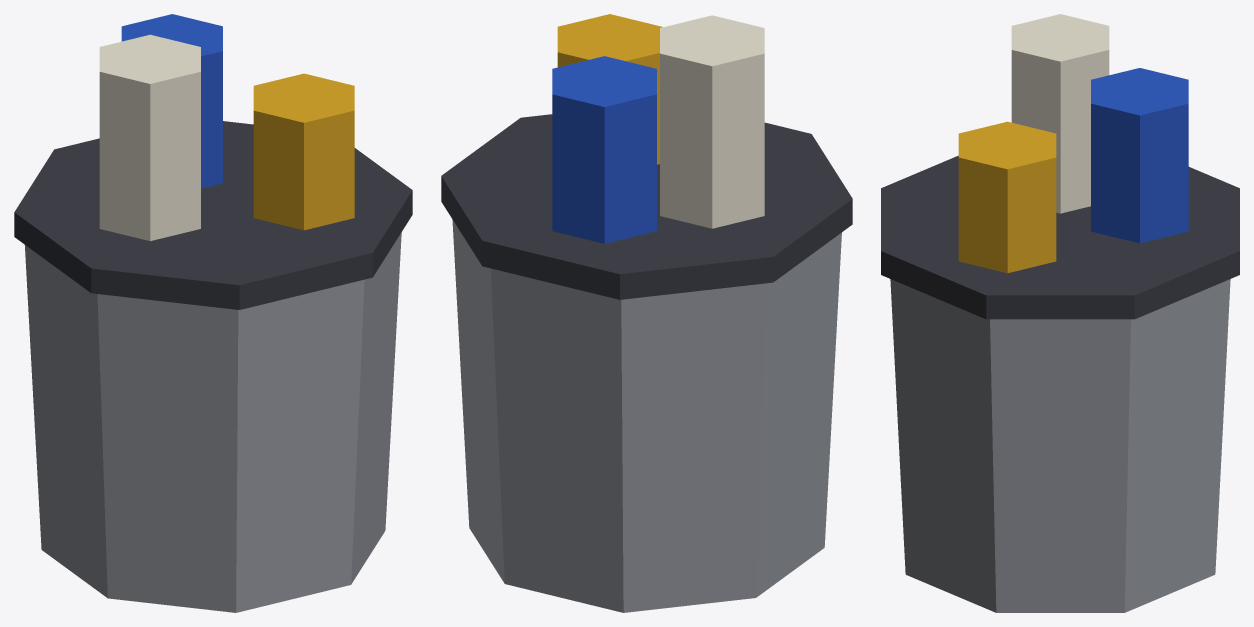
File: jarra_canecas.glb
The picture shows the model from 3 angles, left to right: view 1: azimuth 30°, elevation 25°; view 2: azimuth 150°, elevation 25°; view 3: azimuth 270°, elevation 25°; orthographic projection. The views are drawn at different scales.
Parts seen in each view (by area): view 1: jarra_canecas; view 2: jarra_canecas; view 3: jarra_canecas.
Boxes of the visible parts, x1=… form: jarra_canecas: x1=14, y1=14, x2=412, y2=612; jarra_canecas: x1=441, y1=14, x2=852, y2=612; jarra_canecas: x1=881, y1=14, x2=1239, y2=612.
Bounding box in the file's own units: 0.2033 × 0.3 × 0.2033.
